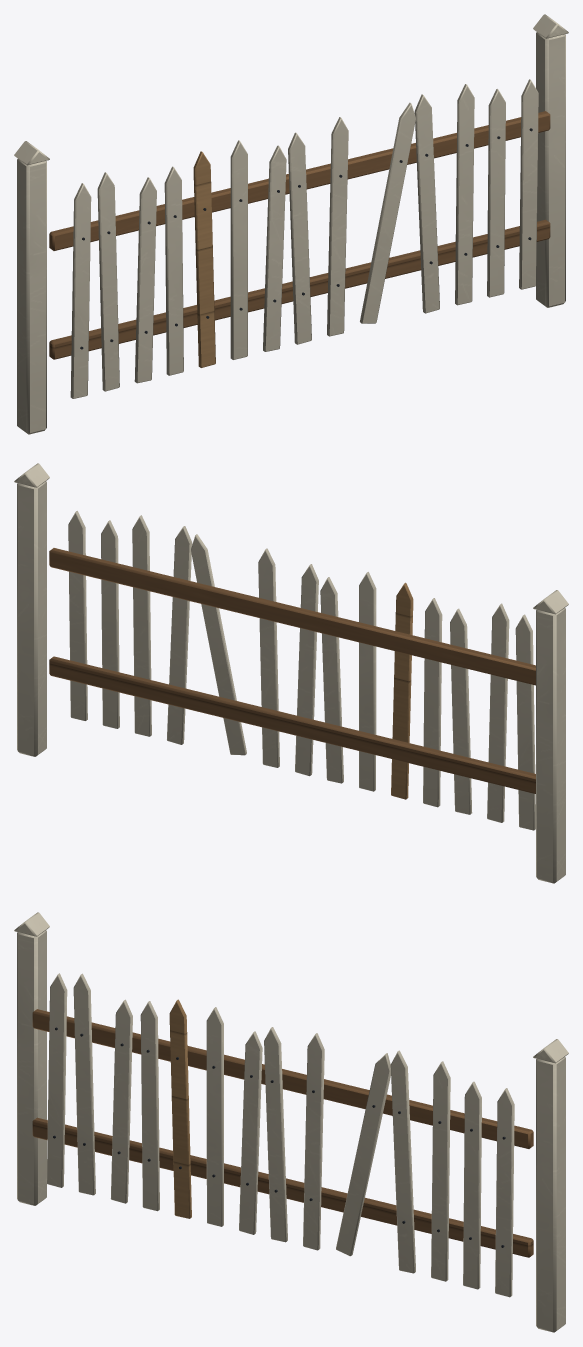
The model's file is picket_fence.glb.
The picture shows the model from 3 angles, top to bottom: view 1: azimuth 30°, elevation 25°; view 2: azimuth 150°, elevation 25°; view 3: azimuth 330°, elevation 25°; orthographic projection.
Visible parts, largest first — view 1: picket_fence; view 2: picket_fence; view 3: picket_fence.
Boxes of the visible parts, box(x1,y1,x2,y2) form: picket_fence: box(14, 14, 568, 434); picket_fence: box(14, 463, 568, 883); picket_fence: box(14, 912, 568, 1332).
Bounding box in the file's own units: 2.61 × 1.31 × 0.177.
4 materials, 4 textured.
